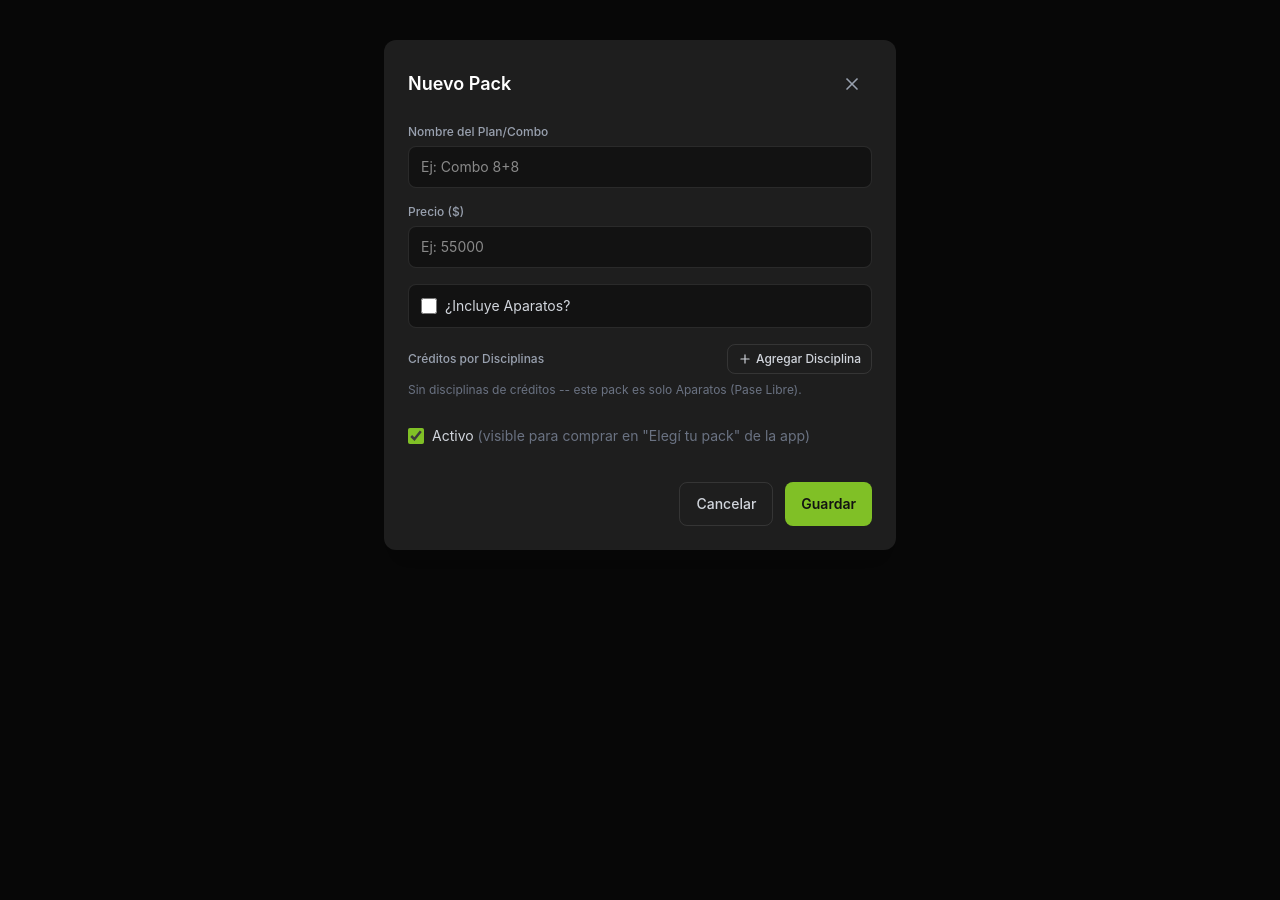
PackModal -- alta/edición de un pack/combo real de `packs` (precio/créditos que usa Mercado Pago) › un nombre duplicado (23505) muestra un mensaje claro en vez del genérico
Type "Pack 12 clases CrossFit" into the field labelled "Nombre del Plan/Combo" at (640, 167), box [408,146,872,188]
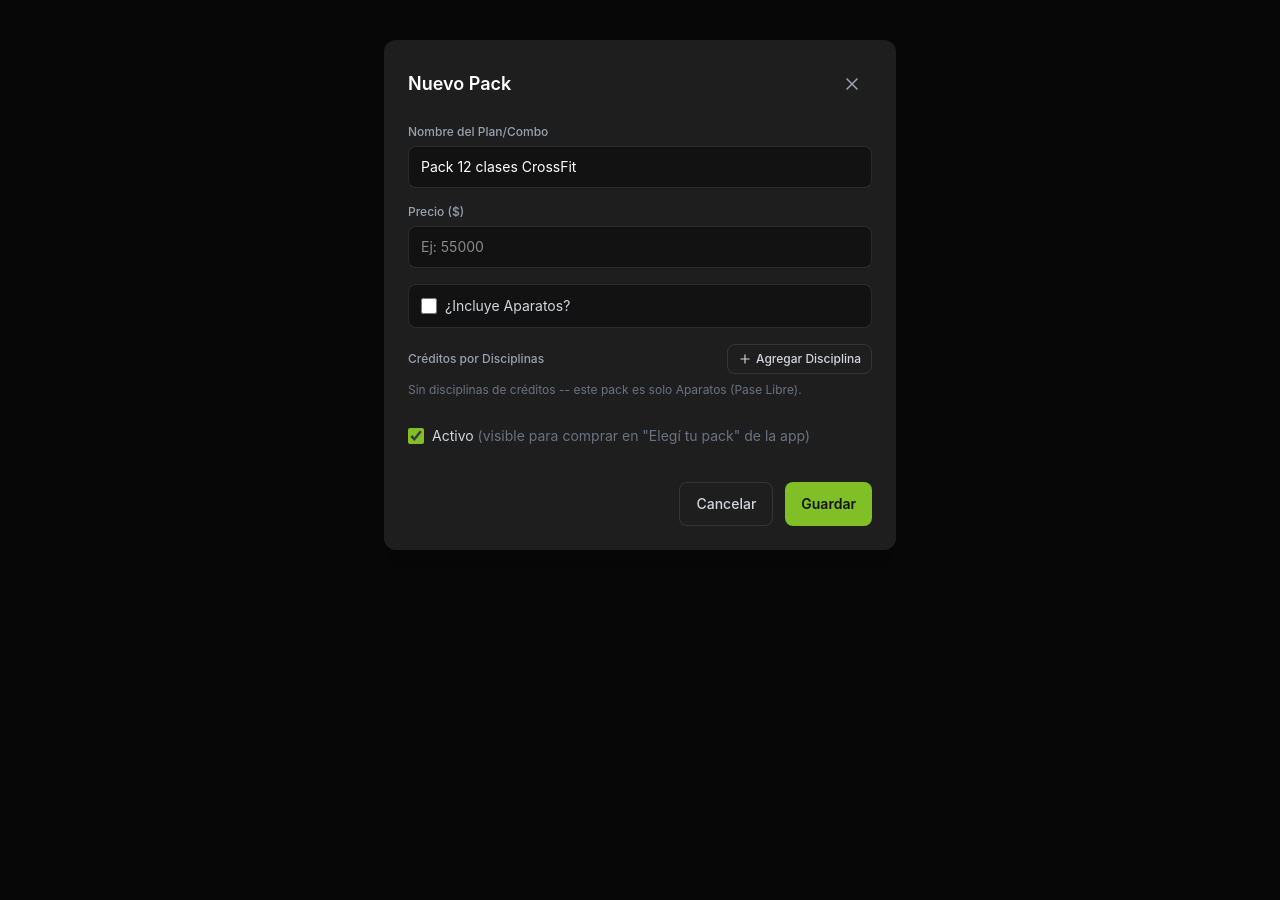
Type "30000" into the number field labelled "Precio ($)" at (640, 247), box [408,226,872,268]
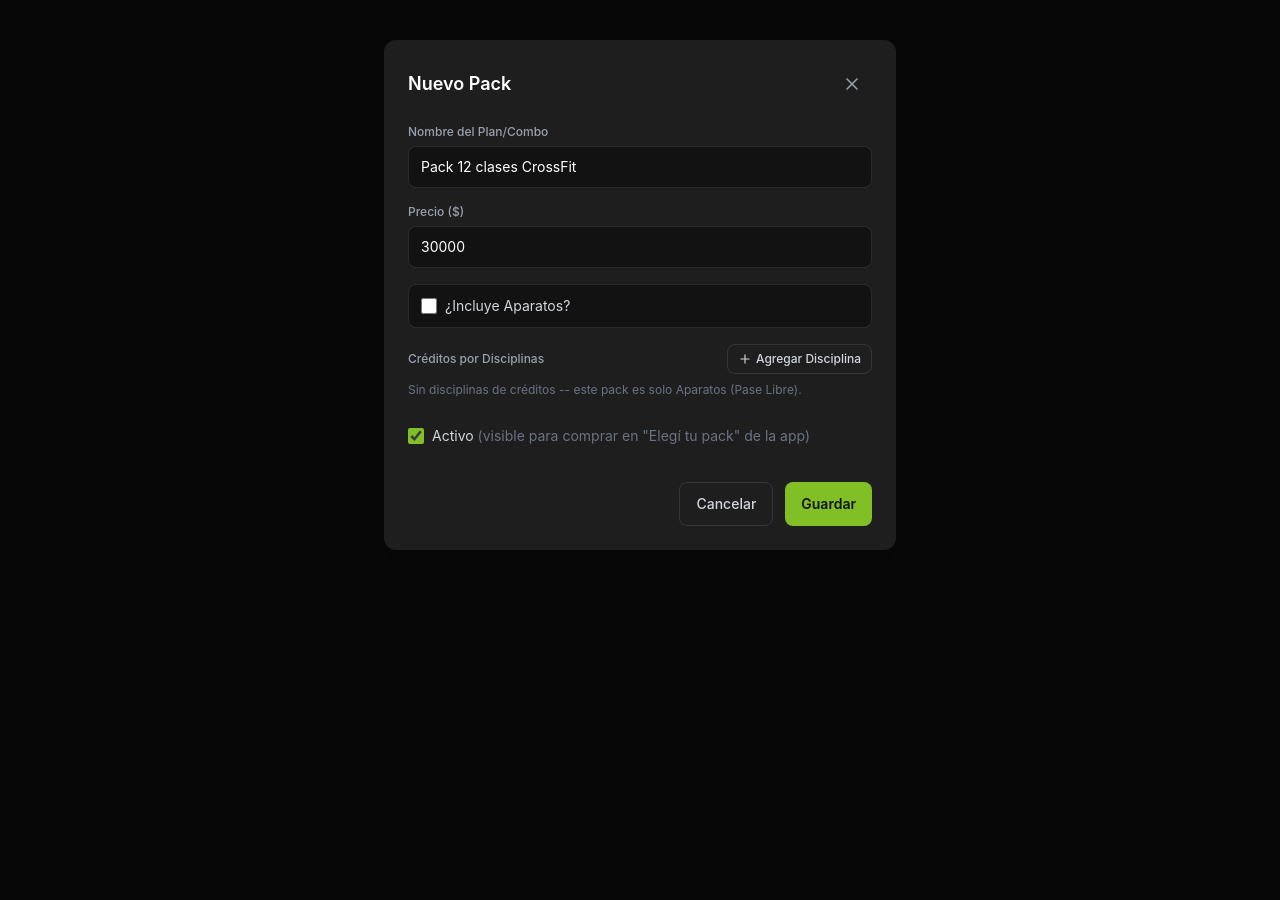
Click the button "Agregar Disciplina" at (800, 359), box [727,344,872,374]
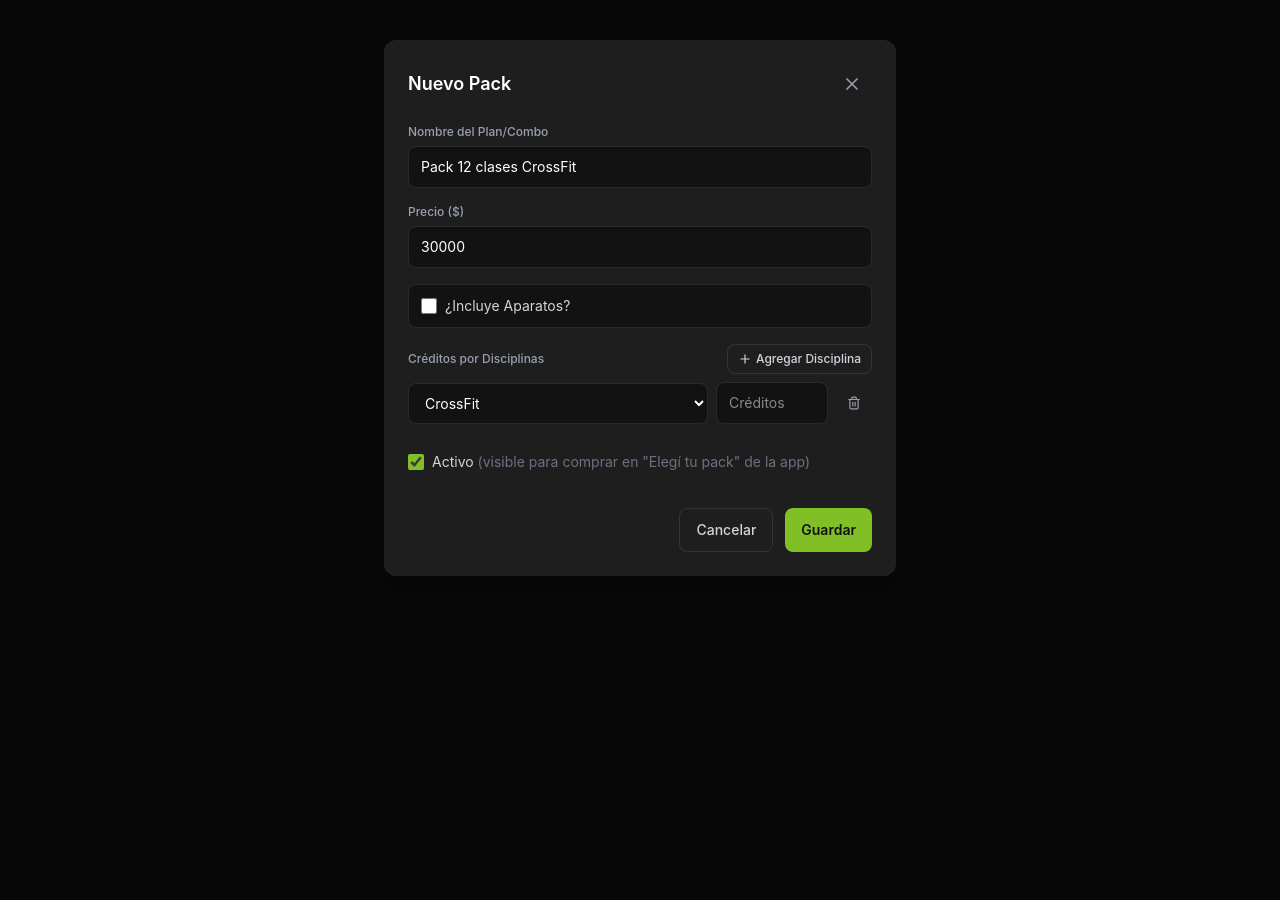
Select "CrossFit" in the dropdown named "Disciplina 1" at (558, 403), box [408,382,708,424]
Type "12" into the number field named "Créditos 1" at (772, 403), box [716,382,828,424]
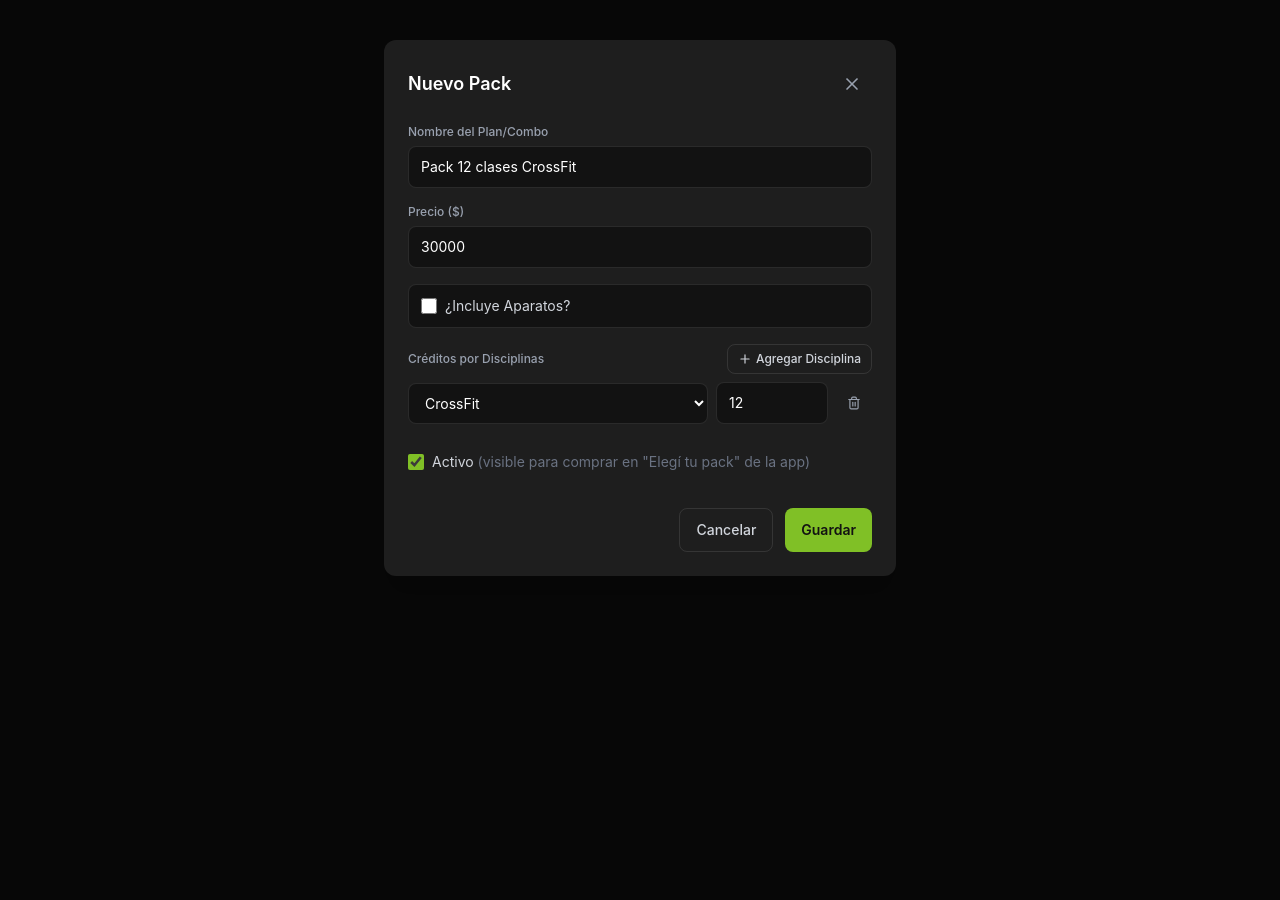
Click the button "Guardar" at (829, 530), box [785,508,872,552]
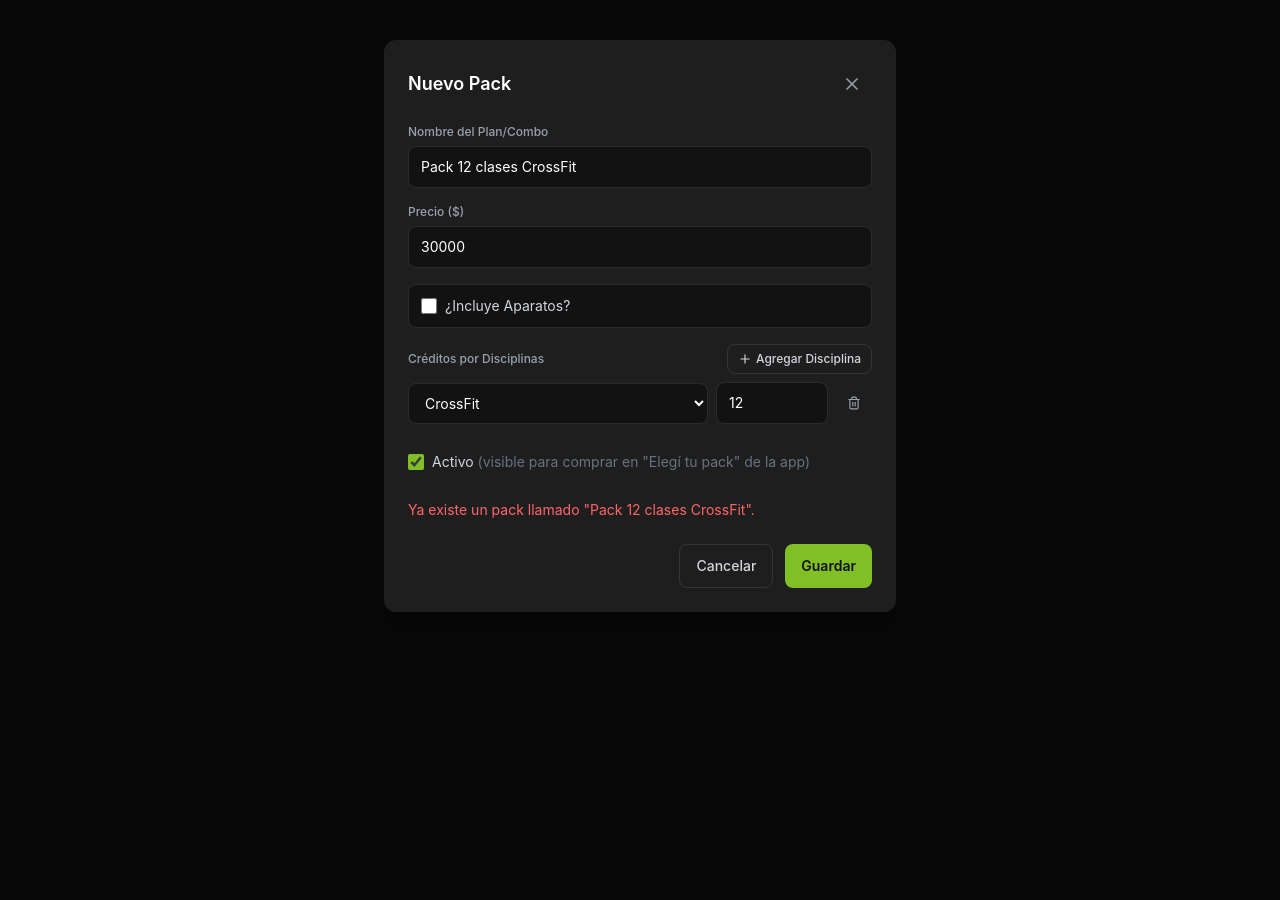
expect the text "Ya existe un pack llamado \"Pack 12 clases CrossFit\"." is shown: met, box [408,501,755,518]
